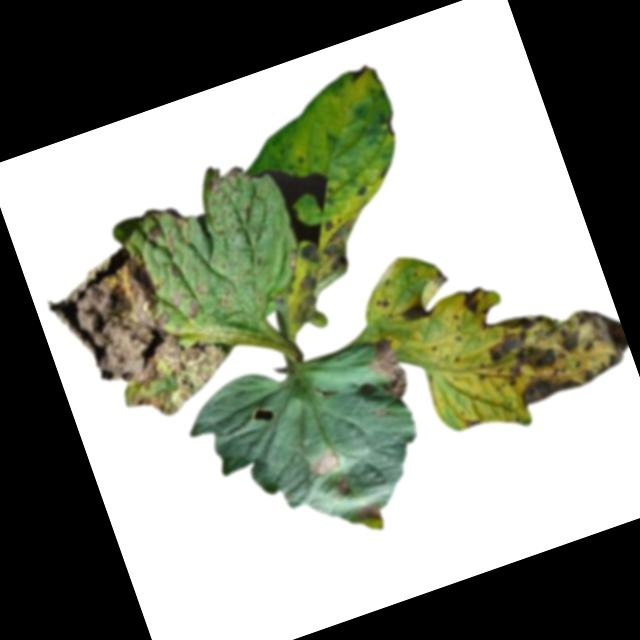Early_blight: (38, 227, 238, 445), (478, 280, 634, 413), (266, 215, 383, 328), (362, 332, 414, 404), (197, 156, 249, 200), (306, 443, 344, 479), (455, 284, 490, 318), (398, 296, 436, 326), (355, 498, 386, 527), (333, 471, 355, 499), (347, 61, 370, 82), (373, 290, 392, 309), (321, 216, 338, 232)
